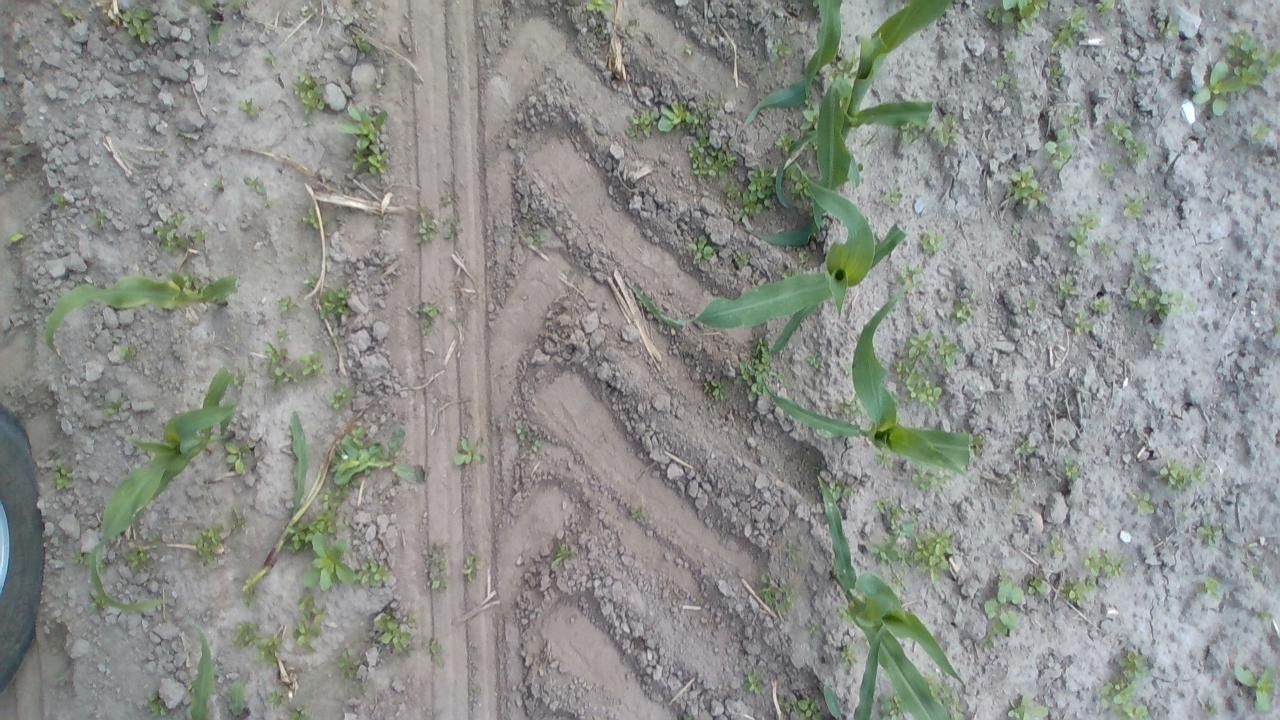Maize: (628, 156, 908, 352), (751, 0, 950, 250), (763, 285, 976, 483), (88, 369, 242, 614), (818, 471, 967, 720), (46, 269, 240, 355), (742, 0, 843, 126), (185, 621, 248, 720), (824, 624, 883, 720), (189, 0, 223, 43)
Weeds: (1193, 29, 1280, 116), (328, 426, 424, 484), (336, 102, 391, 176), (1098, 651, 1151, 720), (301, 533, 355, 590), (984, 568, 1024, 636), (894, 356, 942, 412), (911, 526, 956, 584), (1128, 276, 1184, 322), (686, 130, 738, 179), (282, 509, 336, 553), (736, 337, 772, 402), (292, 593, 330, 653), (920, 670, 965, 720), (1233, 664, 1278, 714), (1103, 118, 1149, 166), (986, 0, 1049, 35), (781, 163, 818, 218), (739, 166, 778, 217), (1004, 166, 1048, 211), (261, 342, 300, 390), (871, 522, 911, 568), (374, 612, 416, 655), (756, 574, 798, 614), (1154, 458, 1204, 491), (1051, 7, 1086, 52), (657, 100, 705, 132), (154, 210, 187, 256), (1068, 212, 1102, 256), (292, 72, 325, 116), (1082, 548, 1126, 579), (120, 6, 154, 43), (190, 524, 223, 562), (624, 109, 658, 144), (318, 287, 352, 321), (322, 480, 360, 510), (910, 465, 951, 492), (936, 334, 964, 373), (822, 50, 860, 78), (906, 329, 934, 367), (1008, 694, 1048, 720), (222, 441, 252, 475), (253, 634, 283, 668), (1056, 105, 1085, 140), (355, 559, 392, 586), (688, 234, 720, 265), (872, 497, 904, 527), (1044, 140, 1074, 172), (931, 113, 958, 146), (414, 204, 436, 244), (454, 436, 484, 465), (877, 693, 909, 720), (1067, 576, 1095, 606), (300, 350, 324, 384), (125, 544, 151, 574), (895, 264, 922, 292), (232, 620, 259, 648), (702, 377, 732, 402), (50, 458, 73, 490), (1198, 516, 1222, 546), (919, 228, 946, 254), (792, 697, 822, 720), (420, 301, 440, 335), (1052, 274, 1078, 300), (800, 96, 821, 128), (180, 270, 208, 294), (146, 690, 170, 717), (243, 572, 260, 609), (740, 668, 764, 694), (950, 298, 974, 324), (426, 541, 448, 569), (336, 650, 358, 678), (328, 386, 354, 409), (1121, 194, 1145, 218), (771, 37, 794, 62), (1132, 248, 1158, 270), (900, 121, 924, 144), (826, 481, 854, 500), (839, 642, 858, 670), (551, 542, 572, 567), (1072, 310, 1092, 336), (1131, 492, 1154, 514), (1157, 16, 1180, 38), (774, 131, 798, 152), (886, 570, 904, 598), (227, 509, 247, 534), (1198, 576, 1220, 598), (425, 572, 447, 594), (268, 686, 288, 710), (1026, 574, 1046, 597), (276, 294, 300, 313), (1063, 456, 1080, 482), (844, 395, 864, 417), (244, 176, 266, 196), (989, 73, 1018, 88), (101, 398, 125, 416), (874, 448, 894, 469), (701, 96, 720, 118), (1251, 123, 1270, 145), (58, 4, 80, 23), (442, 216, 460, 239), (1044, 536, 1066, 554), (228, 368, 246, 390), (301, 207, 319, 229), (348, 34, 371, 51), (237, 98, 258, 116), (461, 556, 475, 582), (1096, 236, 1114, 256), (784, 542, 801, 563), (526, 230, 548, 246), (969, 434, 984, 457), (1096, 0, 1116, 17), (89, 210, 106, 230), (288, 706, 312, 720), (428, 638, 442, 662), (584, 0, 614, 11), (836, 604, 854, 622), (70, 548, 88, 566), (884, 187, 903, 203), (1016, 439, 1036, 454), (1149, 332, 1166, 349), (732, 249, 748, 267), (188, 228, 206, 244), (90, 592, 106, 610), (146, 530, 162, 547), (528, 435, 542, 454), (724, 182, 740, 198), (776, 697, 792, 713), (1023, 298, 1039, 314), (1100, 162, 1116, 178), (262, 52, 278, 68), (118, 344, 134, 360), (302, 273, 319, 288), (1052, 63, 1063, 85), (630, 507, 646, 522), (8, 229, 24, 244), (1094, 298, 1110, 312), (336, 514, 350, 530), (1206, 700, 1220, 715), (782, 268, 802, 278), (808, 354, 822, 368), (980, 637, 995, 650), (1001, 50, 1016, 63), (803, 140, 819, 152), (911, 309, 925, 322), (51, 193, 64, 206), (516, 426, 528, 440), (806, 624, 820, 636), (1186, 298, 1198, 312), (1260, 612, 1274, 624), (276, 329, 288, 342), (332, 334, 345, 346), (1094, 521, 1105, 535), (798, 248, 809, 262), (228, 0, 245, 9), (1246, 566, 1262, 575), (775, 370, 785, 384), (1011, 222, 1021, 236), (186, 678, 196, 692), (684, 43, 694, 56), (594, 26, 608, 35), (302, 118, 316, 127), (841, 364, 852, 375), (370, 81, 382, 91), (98, 559, 106, 573), (1274, 320, 1280, 337), (1130, 72, 1140, 82), (263, 198, 274, 207), (214, 176, 222, 188), (322, 215, 332, 224), (830, 404, 840, 412), (858, 162, 866, 172), (522, 212, 532, 220), (1180, 513, 1188, 522), (544, 320, 552, 328), (684, 714, 694, 720)
